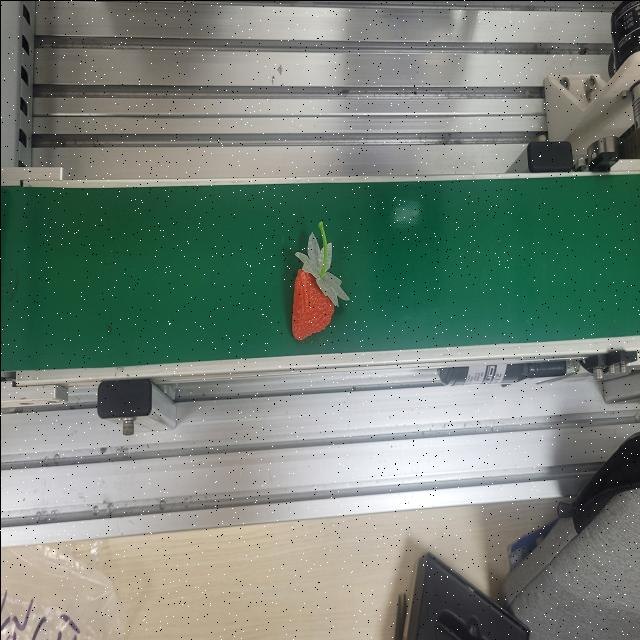Small Ripe Strawberry: (288, 218, 348, 344)
